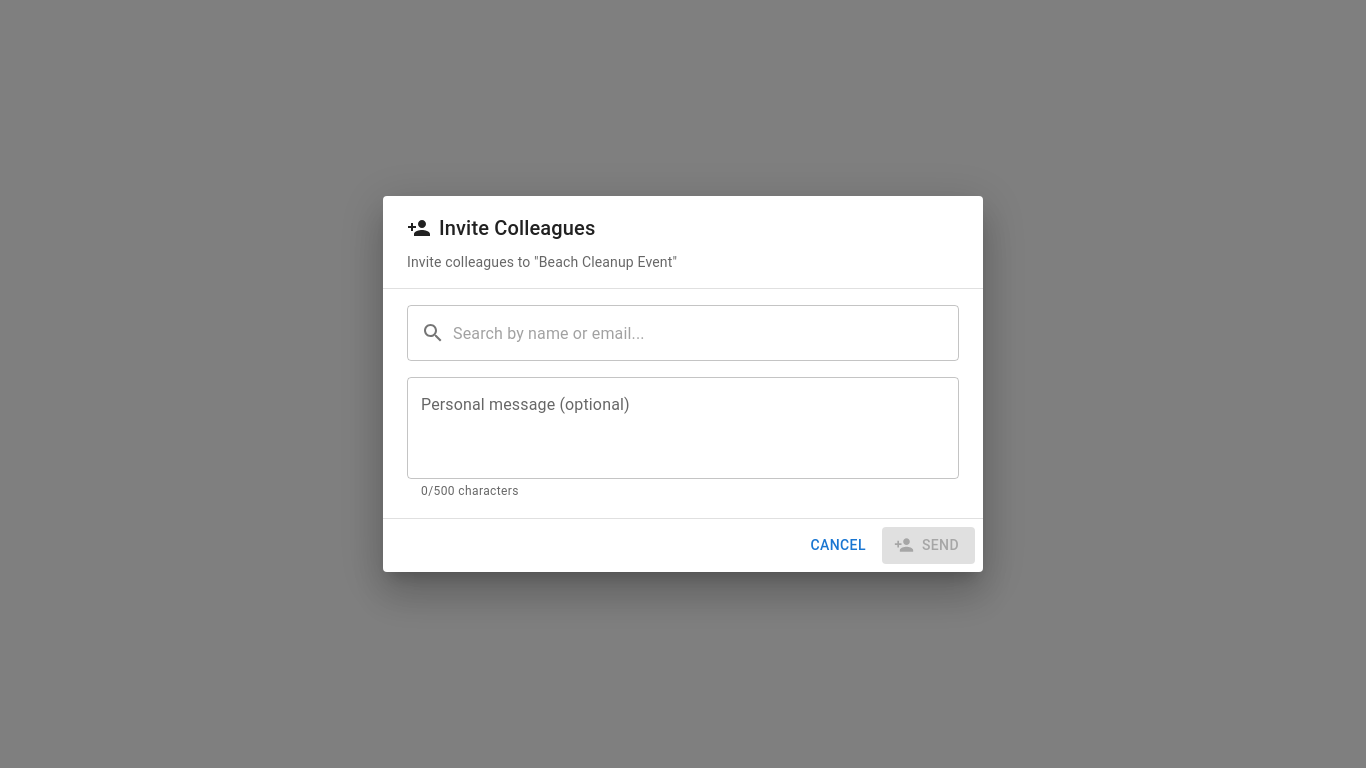
Test case: InviteColleaguesDialog Component › should send invitations successfully
The image size is (1366, 768).
Type "test" into the field with placeholder "Search by name or email..." at (706, 333), box [453,305,959,361]
Wait 500 ms
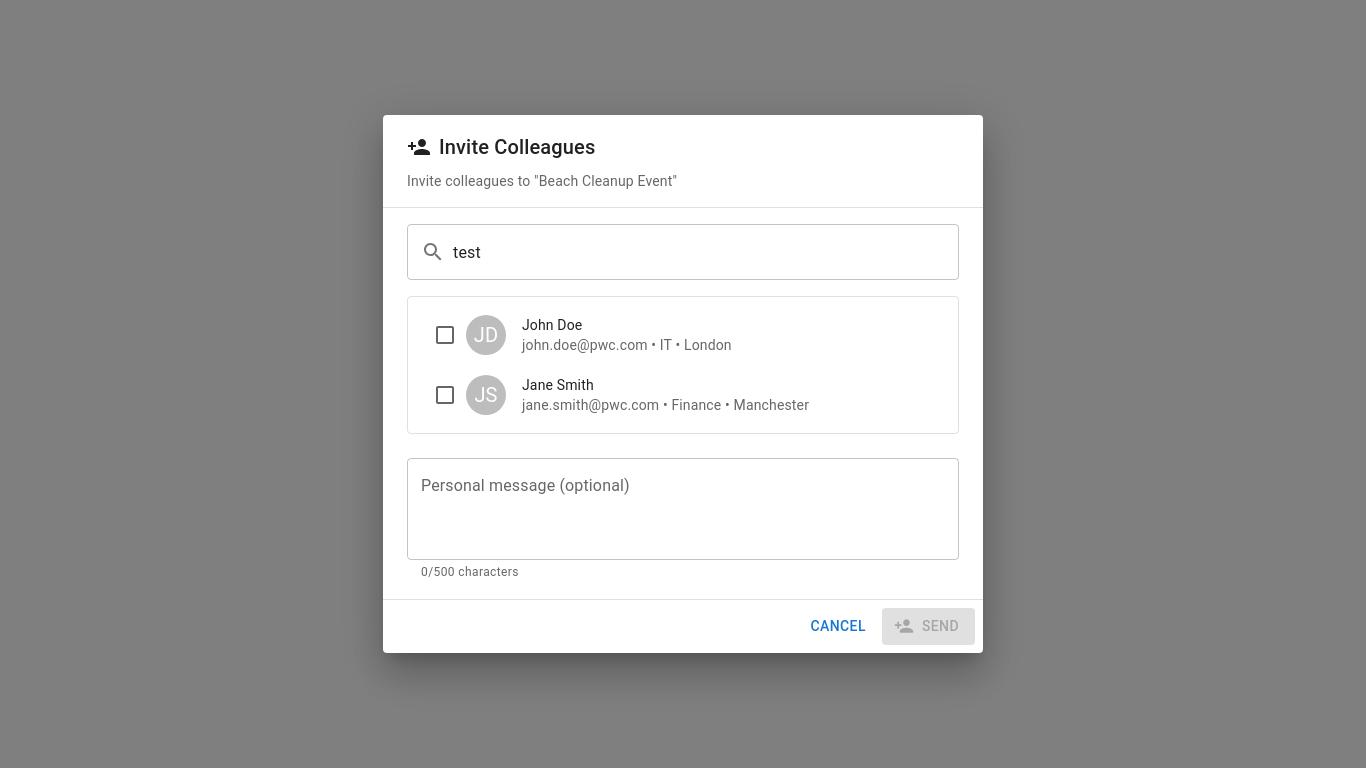
Expected: the text "John Doe" is shown, [522,317,582,333]
Click the 1st checkbox at (445, 335), box [433,323,457,347]
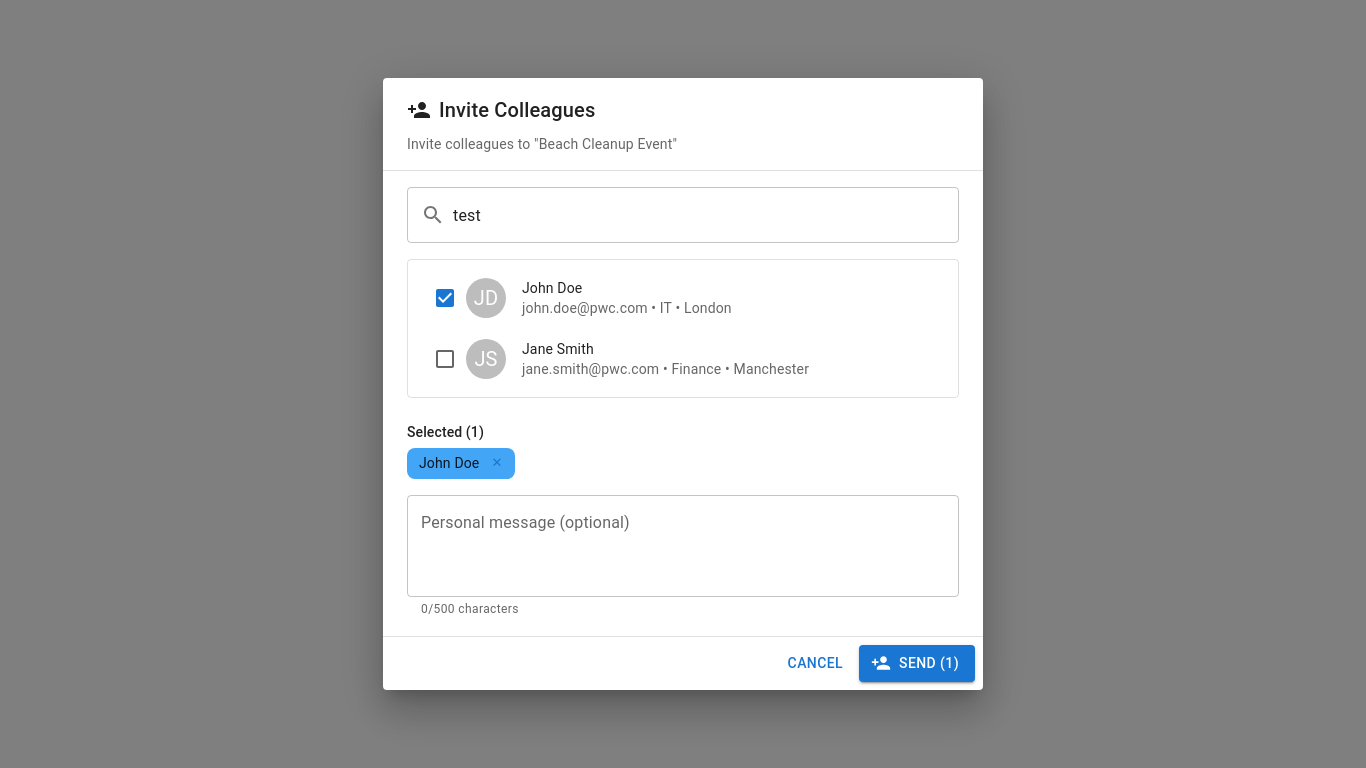
Expected: the heading "Selected (1)" is shown, [407,424,484,440]
Click the button "Send (1)" at (917, 663), box [859,645,975,682]
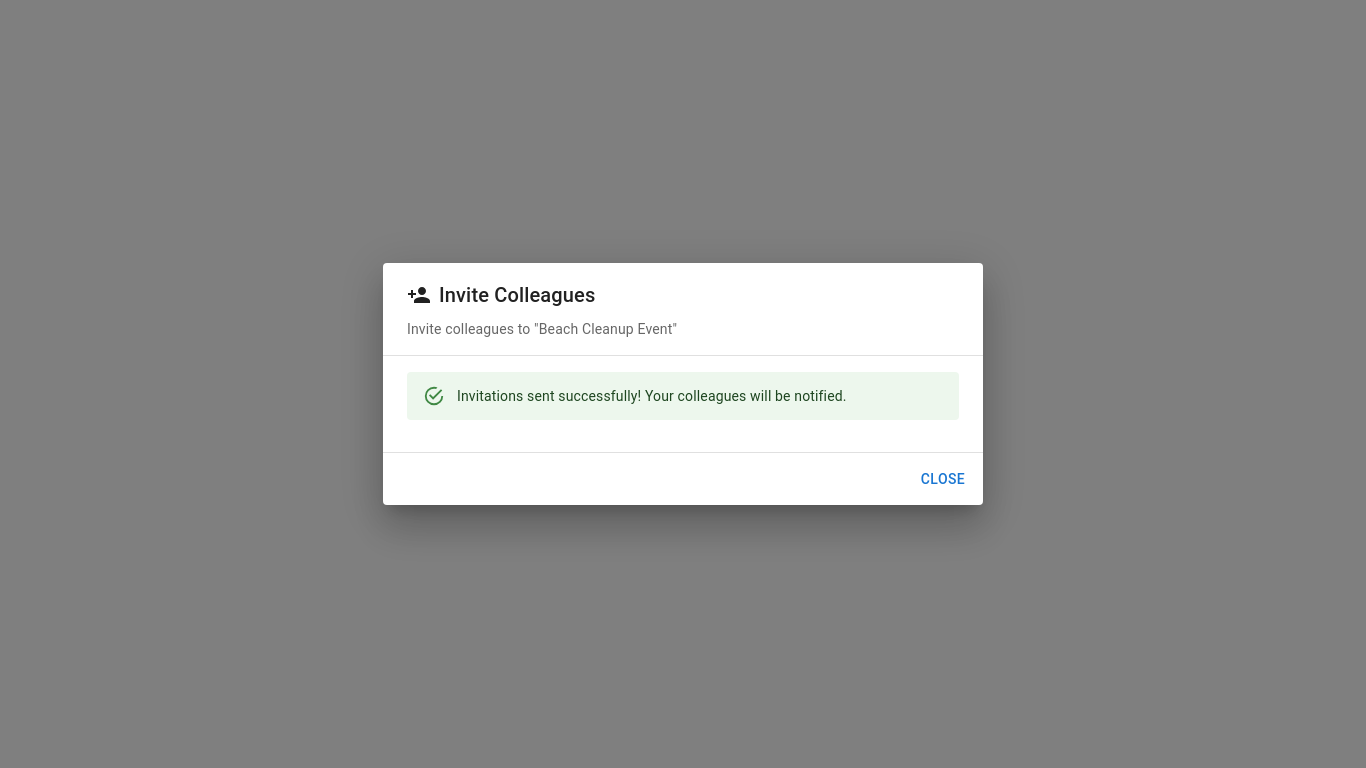
Expected: the text "Invitations sent successfully" is shown, [457,388,847,404]
